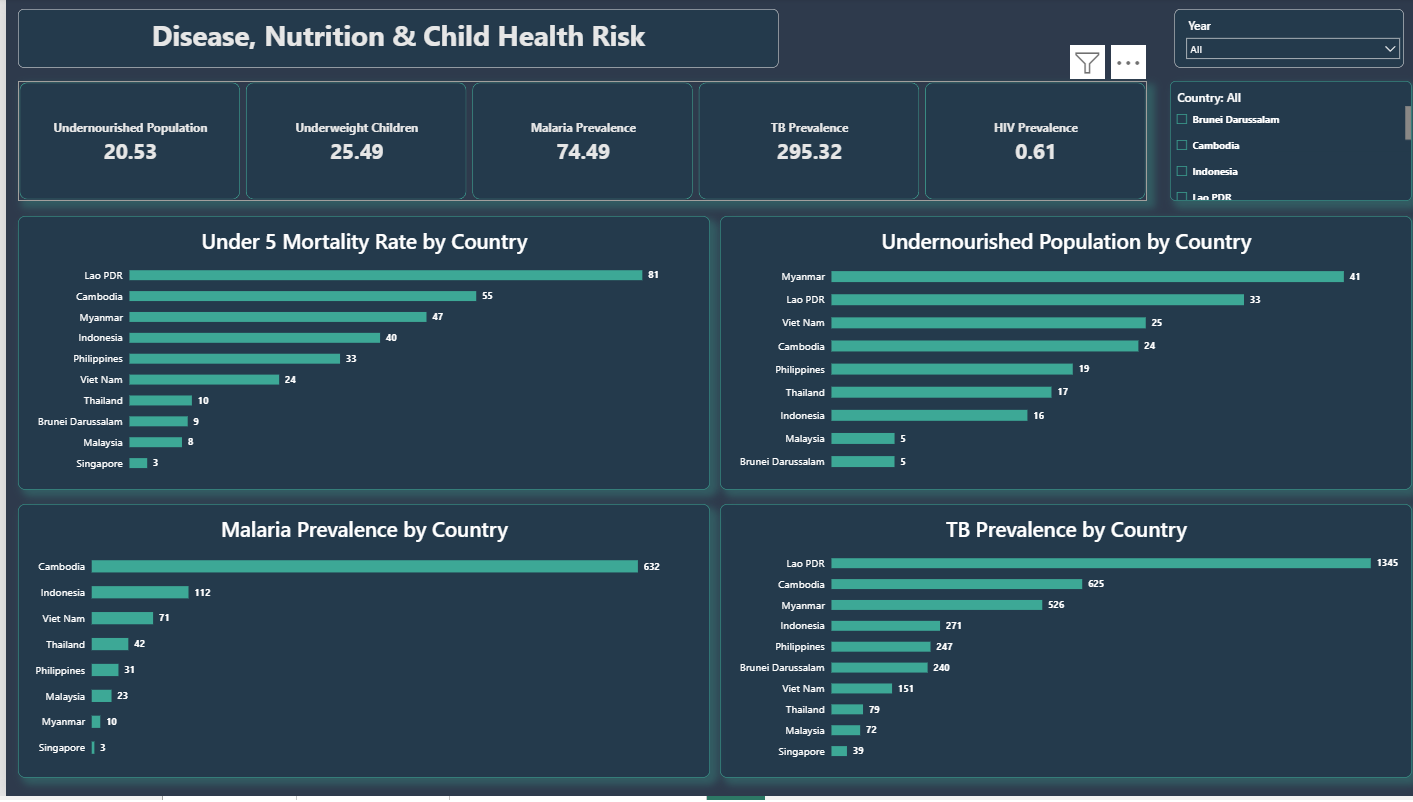

This screenshot's page, from the dashboard's own definition file:
{"tool":"powerbi","page":{"name":"Health Risk","canvas":[1920,1080],"ordinal":1},"visuals":[{"type":"slicer","fields":{"Values":["Dim_Country.Country"]},"box":[1573.7,113.5,326.4,162.2],"z":0},{"type":"slicer","fields":{"Values":["Dim_Year.Year"]},"box":[1579.5,16.3,310.2,79],"z":1000},{"type":"cardVisual","fields":{"Data":["Measure_Table.Undernourished Population","Measure_Table.Underweight Children","Measure_Table.Malaria Prevalence","Measure_Table.TB Prevalence","Measure_Table.HIV Prevalence"]},"box":[16.2,113.5,1526.8,162.2],"z":2000},{"type":"clusteredBarChart","fields":{"Category":["Dim_Country.Country"],"Y":["Measure_Table.TB Prevalence"]},"box":[965.1,685.3,935,370],"z":3000},{"type":"clusteredBarChart","fields":{"Category":["Dim_Country.Country"],"Y":["Measure_Table.Malaria Prevalence"]},"box":[16.2,685.3,935,370],"z":4000},{"type":"clusteredBarChart","title":"Under 5 Mortality Rate by Country","fields":{"Category":["Fact_Health_Indicators.Country"],"Y":["Measure_Table.Under 5 Mortality Rate"]},"box":[16.2,296,935,370],"z":5000},{"type":"textbox","box":[16.2,16.2,1028,79.1],"z":6000},{"type":"clusteredBarChart","fields":{"Category":["Dim_Country.Country"],"Y":["Measure_Table.Undernourished Population"]},"box":[965.1,295.5,935,370],"z":7000}]}

Visuals, with their boxes on the page's 1920x1080 design canvas (x1, y1, x2, y2). These are canvas units, not pixel positions in the 1413x802 screenshot, which may show the page scaled, cropped or inside an application window:
slicer - Dim_Country.Country: region(1574, 114, 1900, 276)
slicer - Dim_Year.Year: region(1580, 16, 1890, 95)
cardVisual - Measure_Table.Undernourished Population x Measure_Table.Underweight Children: region(16, 114, 1543, 276)
clusteredBarChart - Dim_Country.Country x Measure_Table.TB Prevalence: region(965, 685, 1900, 1055)
clusteredBarChart - Dim_Country.Country x Measure_Table.Malaria Prevalence: region(16, 685, 951, 1055)
"Under 5 Mortality Rate by Country" clusteredBarChart: region(16, 296, 951, 666)
textbox: region(16, 16, 1044, 95)
clusteredBarChart - Dim_Country.Country x Measure_Table.Undernourished Population: region(965, 296, 1900, 666)
